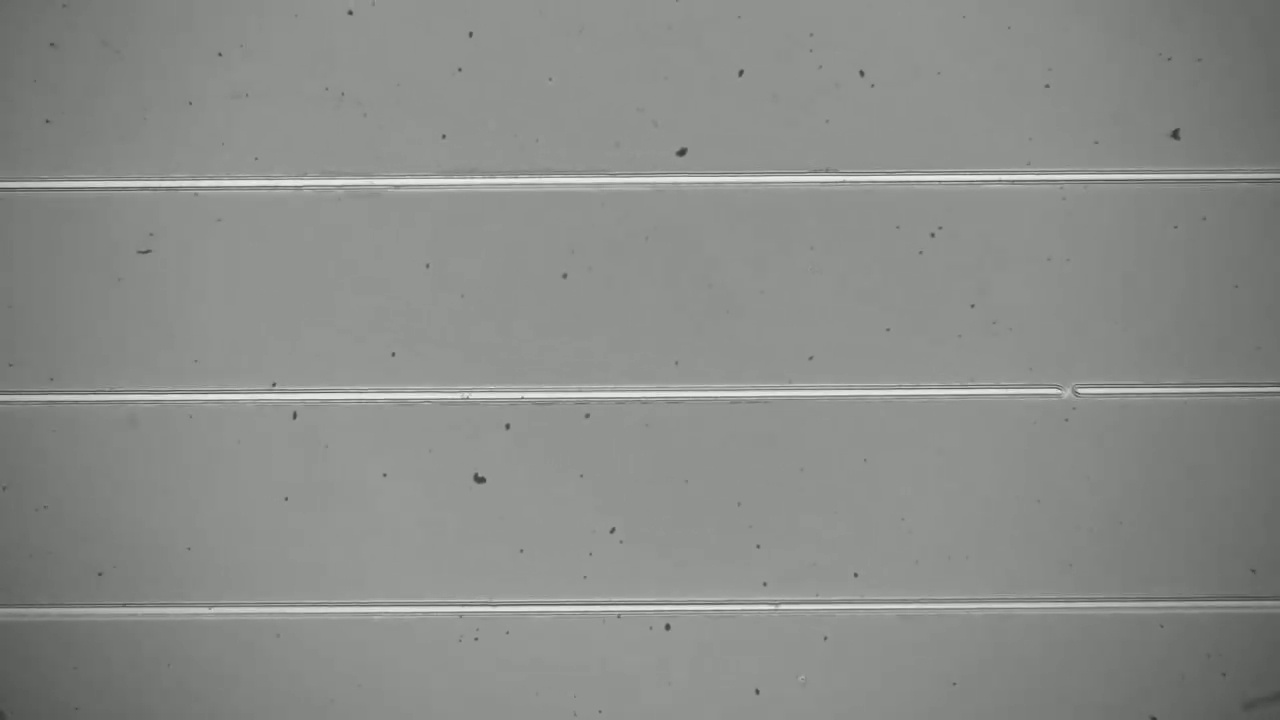open: (1044, 369, 1089, 410)
